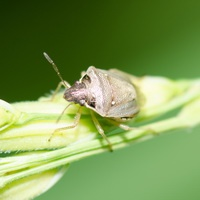insect: (43, 52, 138, 150)
